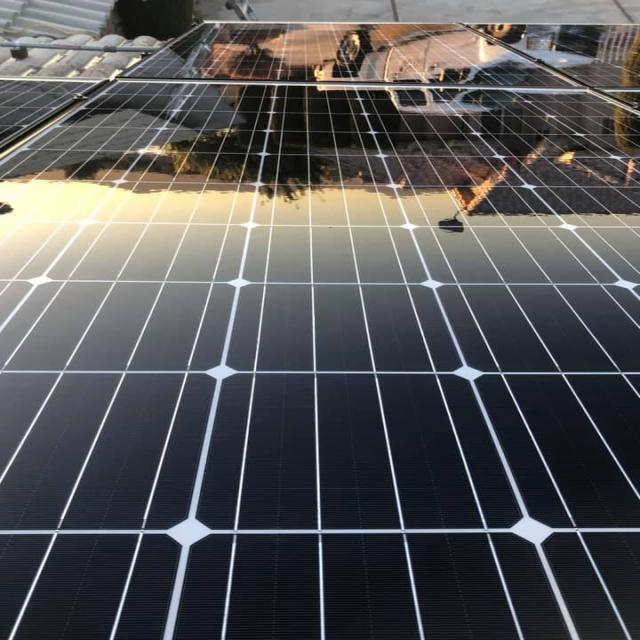clean-solar-panel: (0, 25, 640, 640)
